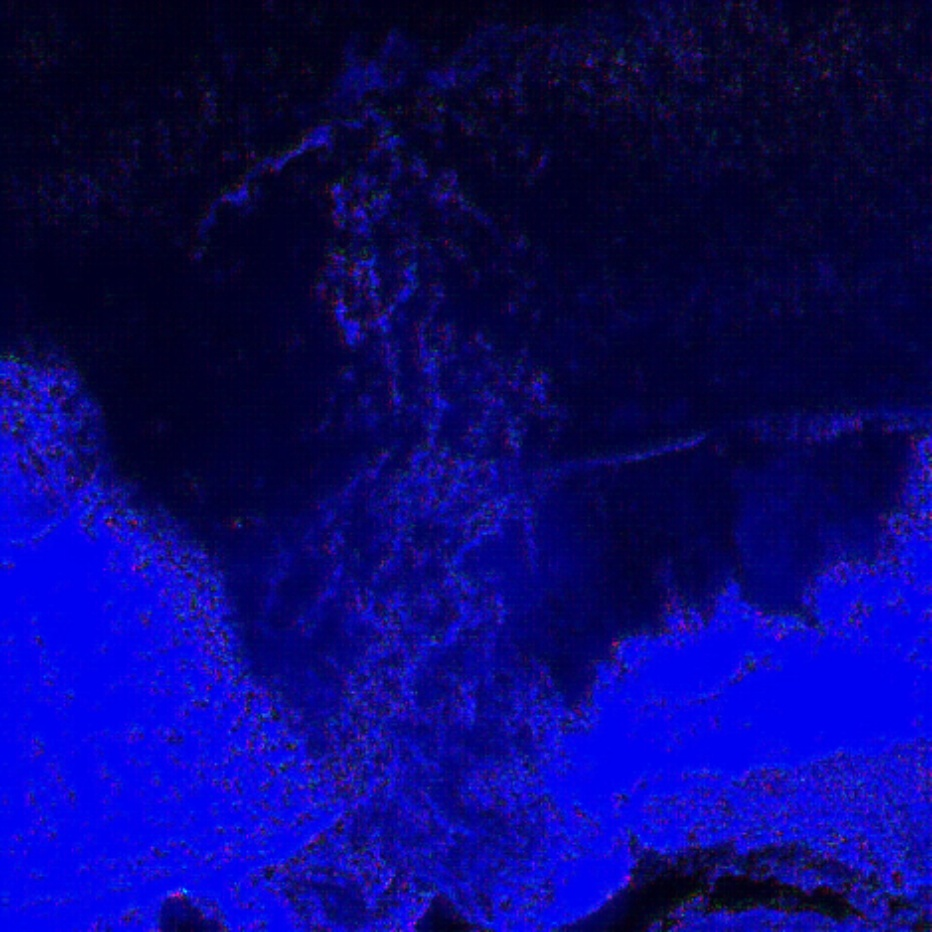rip_current: (144, 184, 703, 852)
